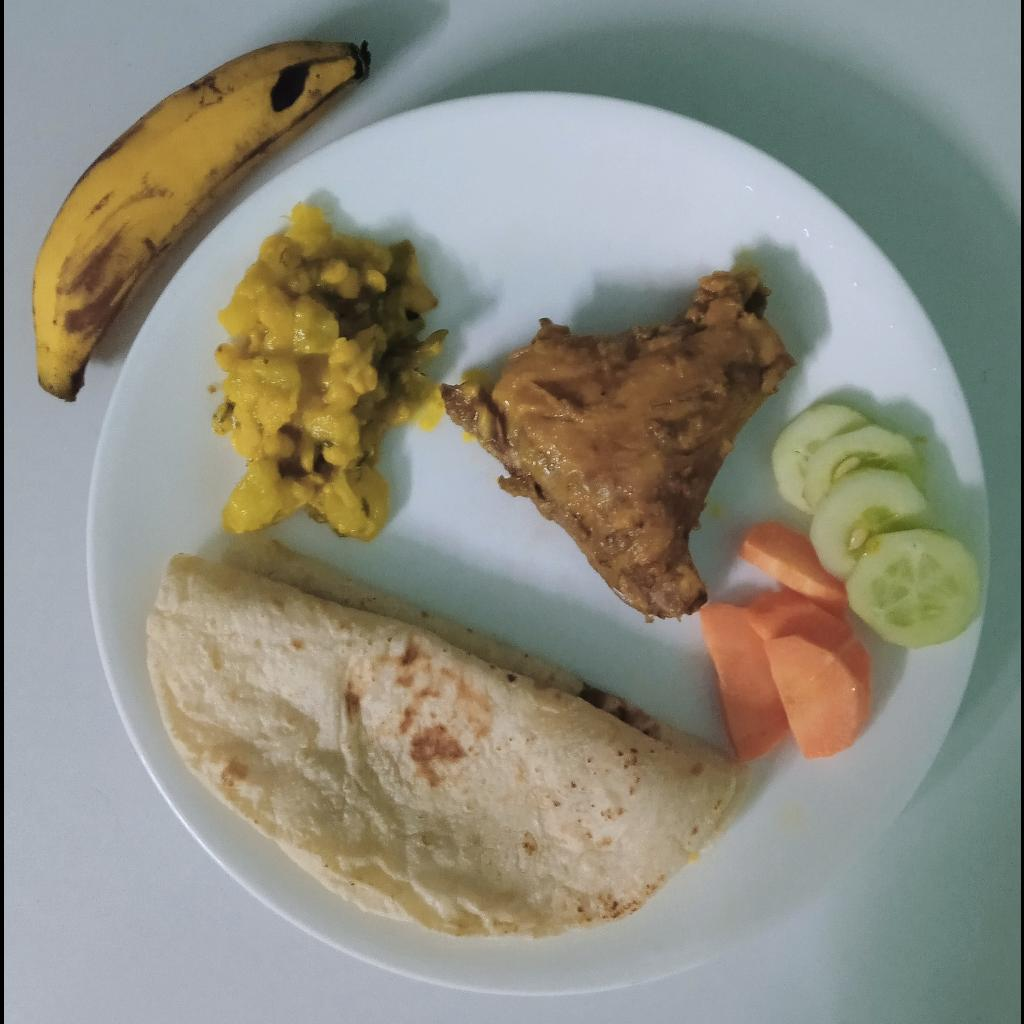banana: (29, 39, 370, 403)
carrot: (697, 521, 873, 762)
chicken: (438, 270, 786, 620)
cucumber: (771, 406, 980, 649)
lau: (213, 205, 444, 543)
ruti: (146, 530, 758, 939)
